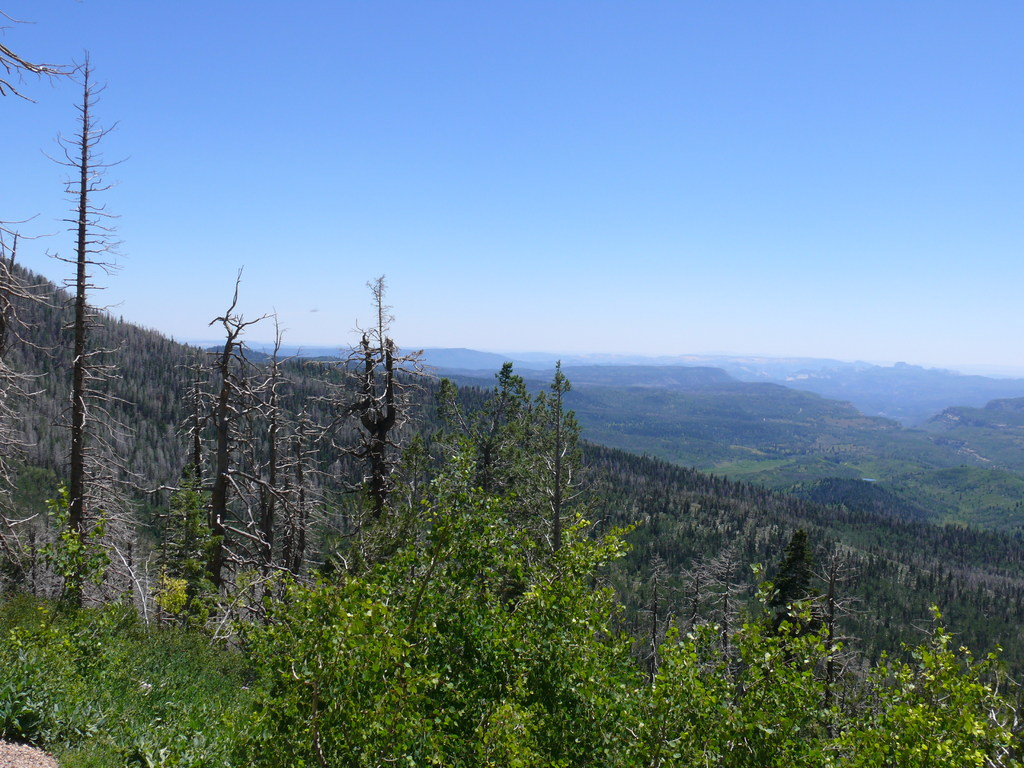Tree: (139, 264, 1023, 767), (0, 1, 85, 591)
